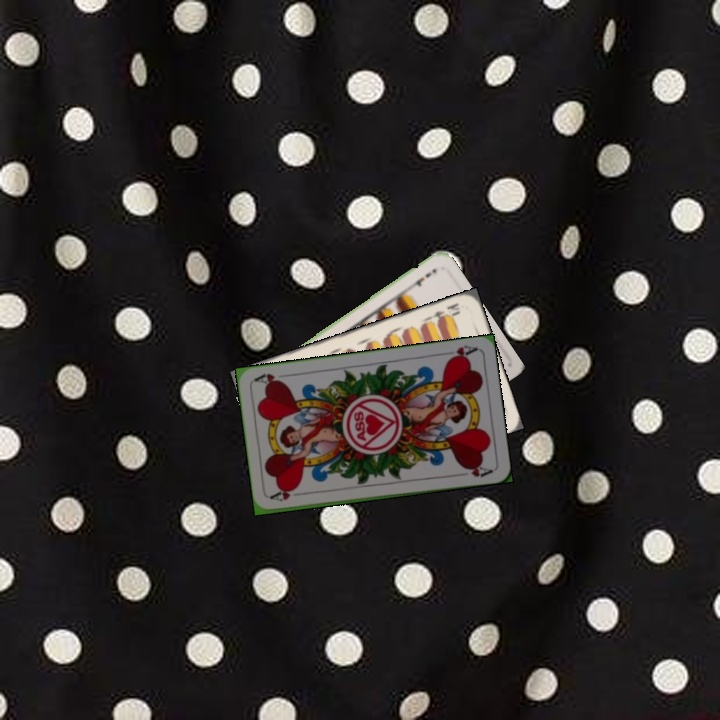E10: (426, 299, 463, 325)
E7: (406, 264, 439, 292)
HA: (438, 341, 479, 363), (267, 485, 308, 504)
